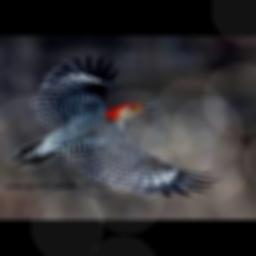Woodpecker: (10, 55, 219, 198)
